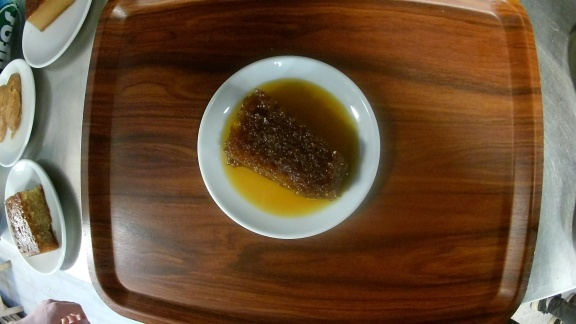ekmekkadayifi: (196, 54, 381, 241)
